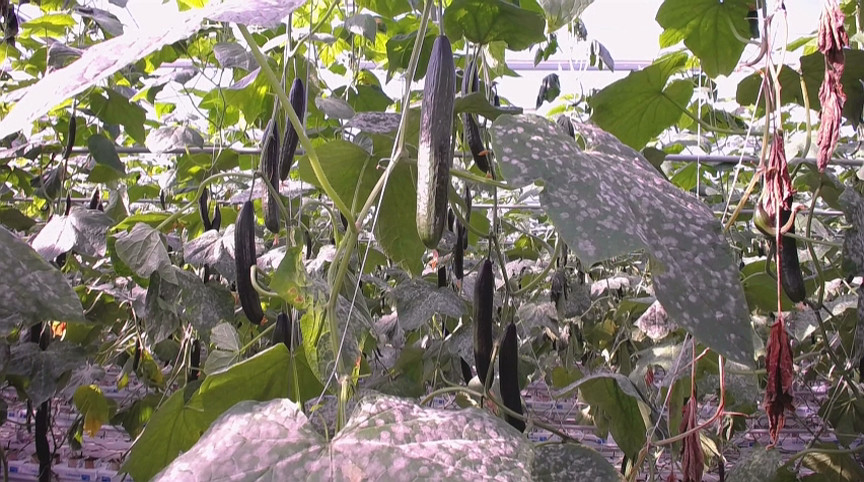cucumber: (416, 37, 458, 248), (234, 201, 264, 323), (771, 206, 808, 303), (278, 78, 309, 181), (462, 57, 486, 171), (498, 325, 524, 429), (472, 260, 493, 387), (262, 121, 280, 233)
